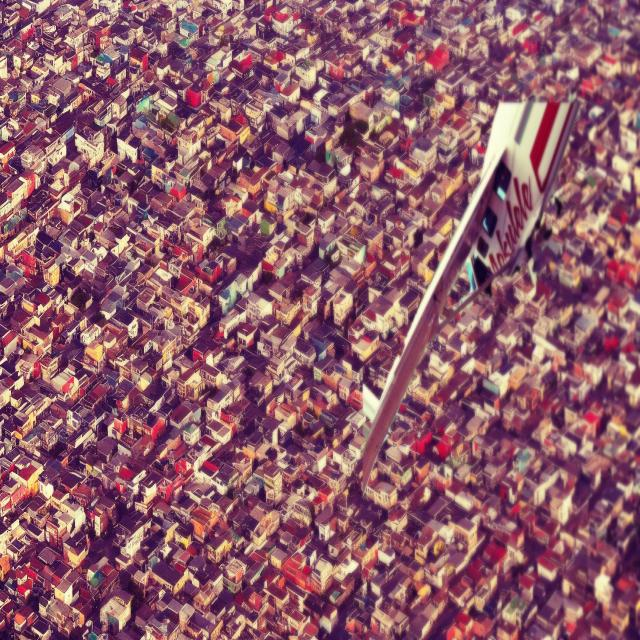airplane: (359, 94, 580, 497)
